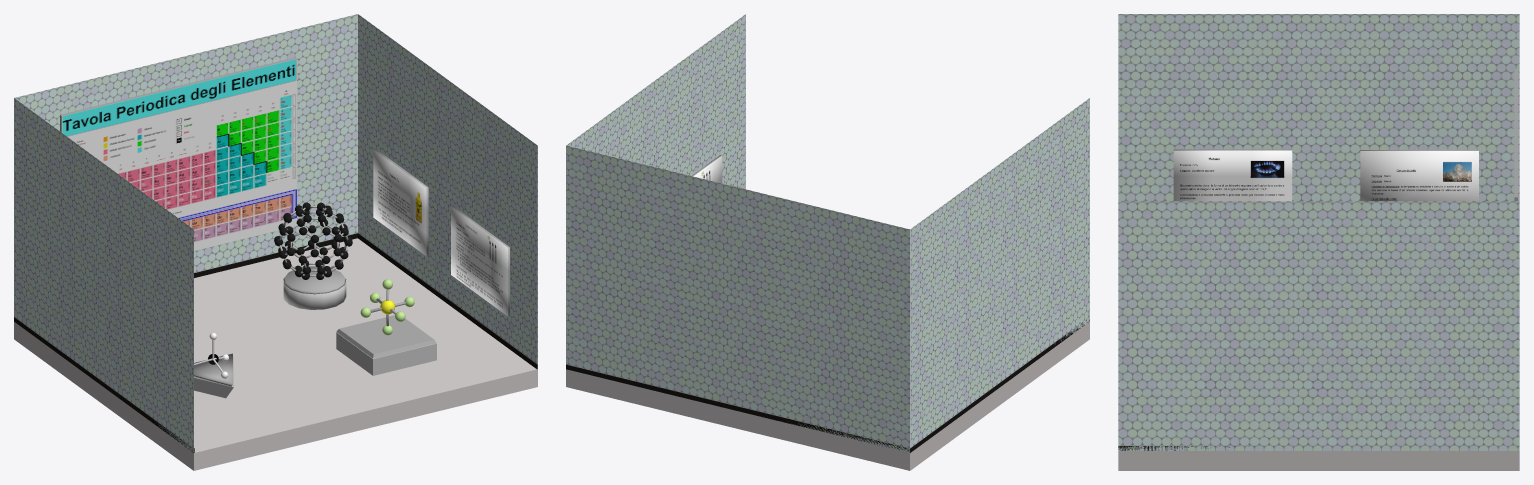
The model's file is LAB+room.fbx.
3 renders of one model, left to right at view 1: azimuth 30°, elevation 25°; view 2: azimuth 150°, elevation 25°; view 3: azimuth 270°, elevation 25°, orthographic. The views are drawn at different scales.
Visible parts, largest first — view 1: Room, Floor, prim6, prim8, prim10, prim315.001, Baseboard, prim13, prim12, prim314, prim316, prim315 (+2 smaller); view 2: Room, Floor, Baseboard; view 3: Room, Floor, prim11, prim9, prim6.
Boxes of the visible parts, x1=… form: Room: x1=14, y1=14, x2=537, y2=452; Floor: x1=14, y1=238, x2=537, y2=470; prim6: x1=60, y1=57, x2=296, y2=250; prim8: x1=451, y1=205, x2=509, y2=316; prim10: x1=373, y1=148, x2=428, y2=256; prim315.001: x1=274, y1=202, x2=352, y2=279; Baseboard: x1=14, y1=233, x2=537, y2=452; prim13: x1=336, y1=315, x2=436, y2=358; prim12: x1=336, y1=332, x2=436, y2=375; prim314: x1=283, y1=266, x2=346, y2=294; prim316: x1=283, y1=281, x2=346, y2=309; prim315: x1=279, y1=206, x2=348, y2=276; Room: x1=566, y1=14, x2=1089, y2=452; Floor: x1=566, y1=322, x2=1089, y2=470; Baseboard: x1=566, y1=319, x2=1089, y2=452; Room: x1=1118, y1=14, x2=1519, y2=450; Floor: x1=1118, y1=451, x2=1519, y2=470; prim11: x1=1173, y1=149, x2=1292, y2=201; prim9: x1=1360, y1=150, x2=1478, y2=201; prim6: x1=1514, y1=69, x2=1517, y2=201.
Bounding box in the file's own units: 2575 × 1810 × 2330.
